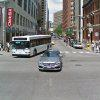Bus: (7, 29, 53, 58)
